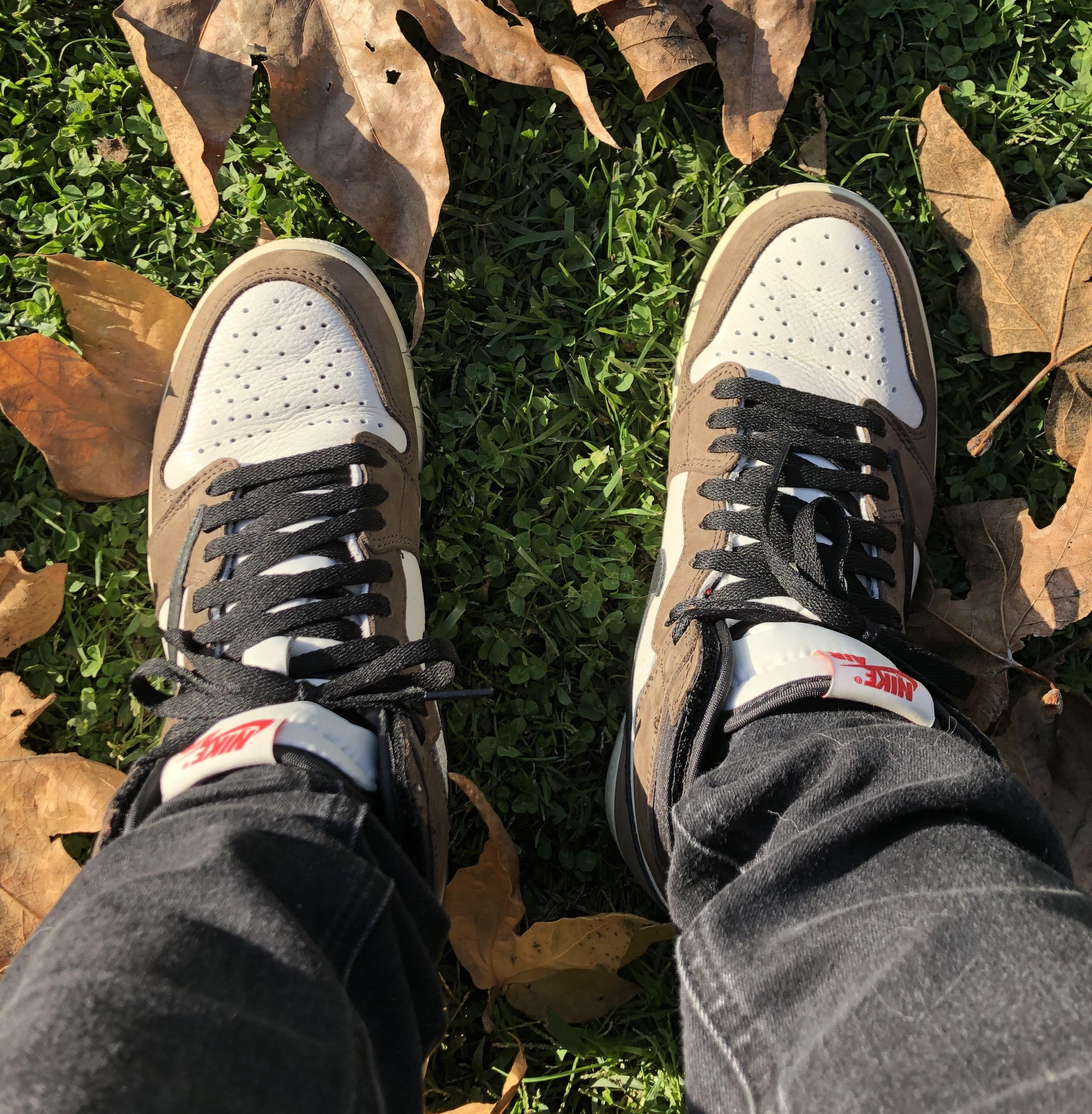sneaker: (601, 182, 962, 829), (129, 236, 453, 854)
